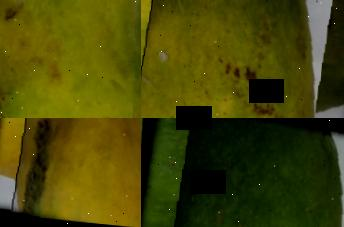PartiallyRipe: (141, 0, 344, 118), (0, 0, 141, 118)
Ripe: (0, 118, 141, 227)
Unripe: (141, 118, 344, 227)
